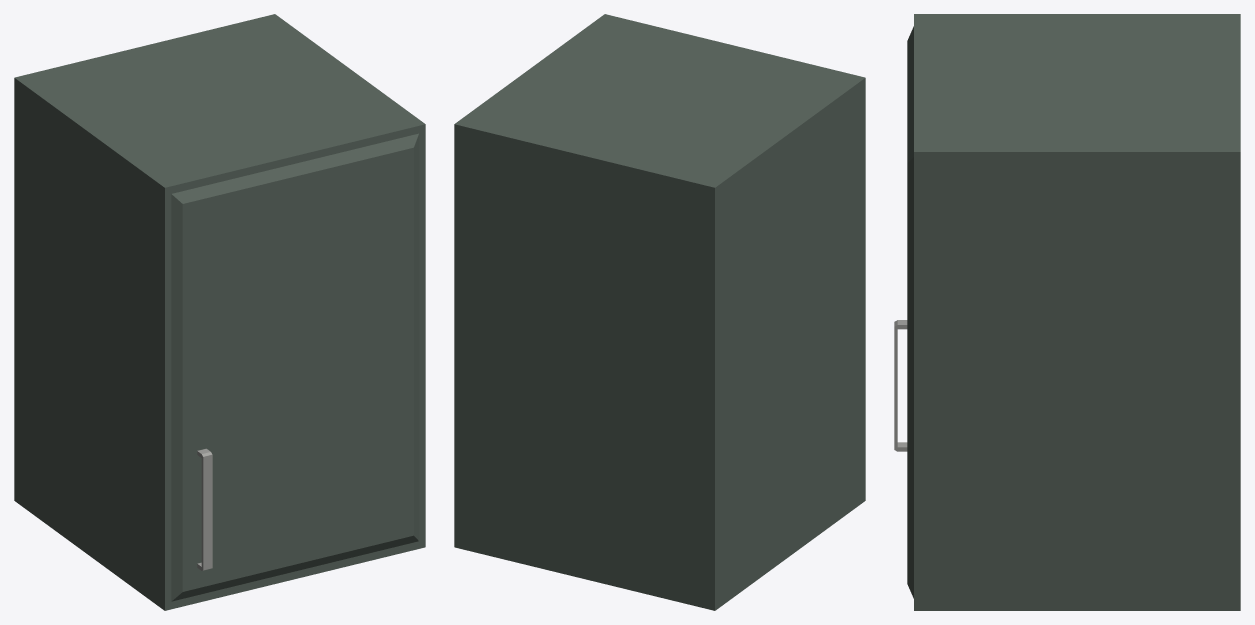
The model's file is Kitchen_Cabinet2.glb.
3 views of the same model, side by side, from view 1: azimuth 30°, elevation 25°; view 2: azimuth 150°, elevation 25°; view 3: azimuth 270°, elevation 25° (orthographic). The views are drawn at different scales.
Visible parts, largest first — view 1: Kitchen_Cabinet2; view 2: Kitchen_Cabinet2; view 3: Kitchen_Cabinet2.
Part boxes in pixels (<box>): Kitchen_Cabinet2: <box>14,14,425,610</box>; Kitchen_Cabinet2: <box>454,14,865,610</box>; Kitchen_Cabinet2: <box>894,14,1240,610</box>.
Bounding box in the file's own units: 0.4943 × 0.7663 × 0.5239.
2 materials, 2 textured.
